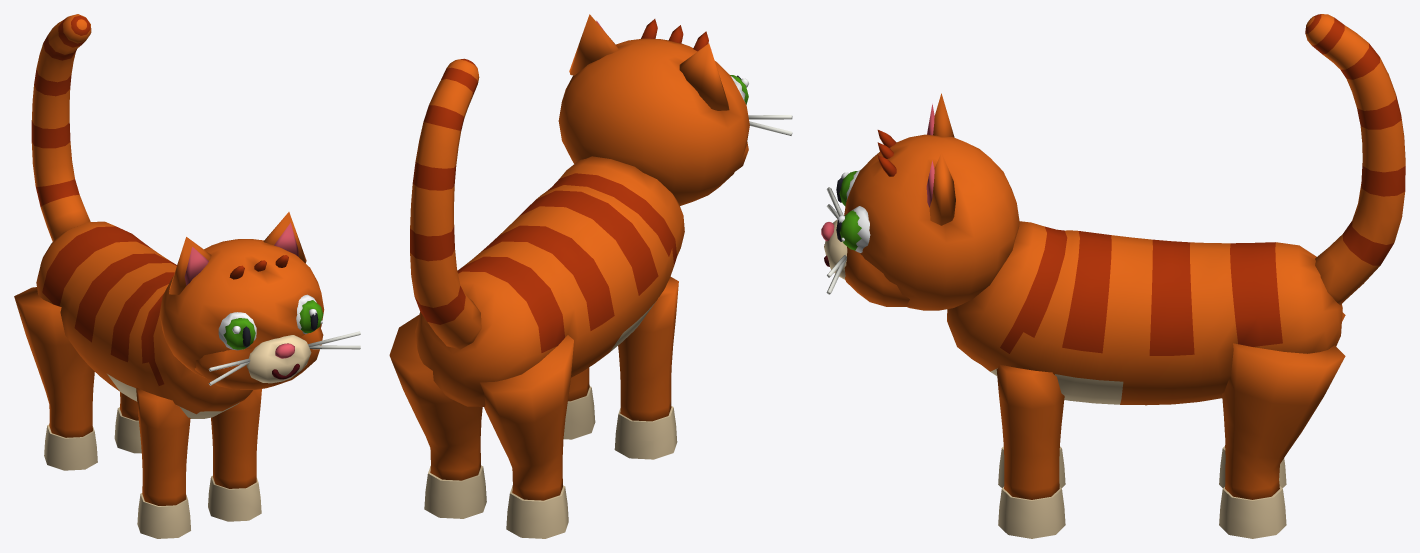
Rendered from Cat.fbx.
3 views of the same model, side by side, from view 1: azimuth 30°, elevation 25°; view 2: azimuth 150°, elevation 25°; view 3: azimuth 270°, elevation 25° (orthographic). The views are drawn at different scales.
Visible parts, largest first — view 1: Cat, Head, Tail; view 2: Cat, Head, Tail; view 3: Cat, Head, Tail.
Boxes of the visible parts, bbox=[...] form: Cat: bbox=[14, 221, 261, 538]; Head: bbox=[159, 212, 360, 389]; Tail: bbox=[31, 14, 91, 241]; Cat: bbox=[389, 156, 684, 538]; Head: bbox=[558, 14, 792, 205]; Tail: bbox=[410, 58, 481, 349]; Cat: bbox=[947, 221, 1345, 538]; Head: bbox=[821, 93, 1019, 310]; Tail: bbox=[1305, 14, 1405, 305].
Size of the model in its own units: 0.2057 by 0.5375 by 0.5818.
